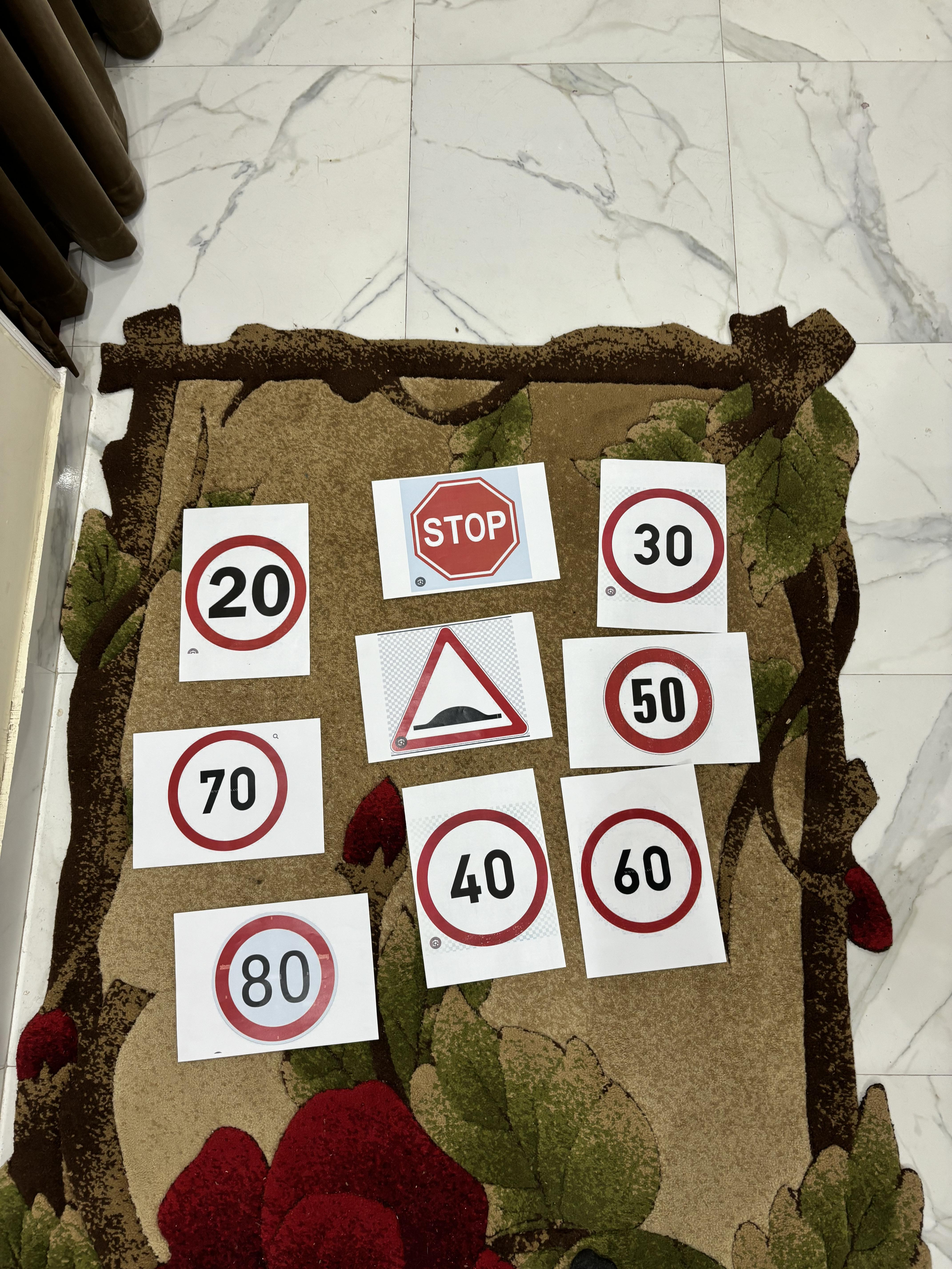20-Speed: (187, 527, 306, 664)
30-speed: (607, 489, 724, 600)
40-Speed: (420, 802, 552, 947)
50-Speed: (603, 636, 715, 760)
60-Speed: (585, 800, 703, 936)
70-Speed: (172, 727, 282, 853)
80-Speed: (216, 905, 335, 1041)
Hump: (383, 625, 525, 751)
Stop: (398, 474, 541, 586)
